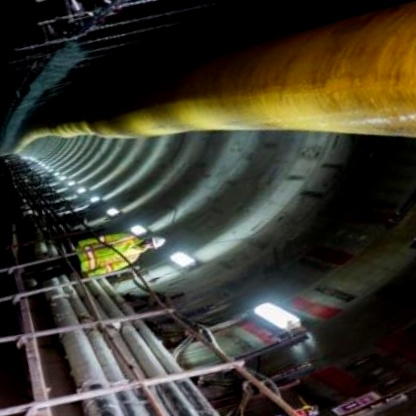vest: (74, 226, 151, 285)
white: (146, 231, 172, 256)
